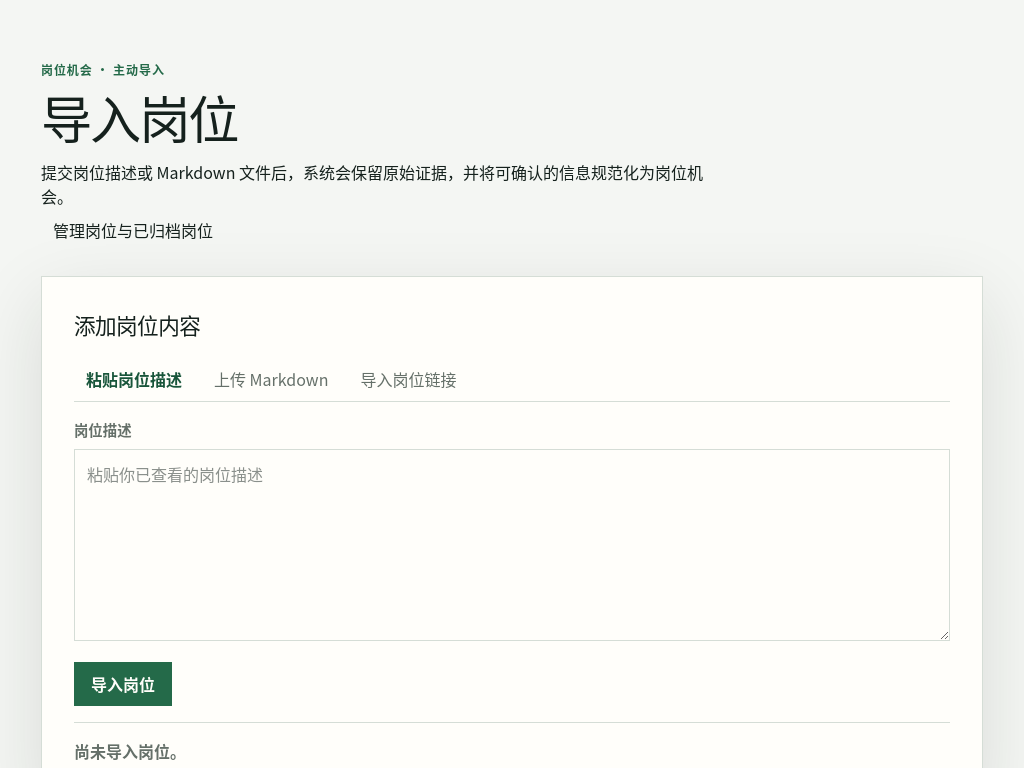
Test: 将复用通知告知用户，并以 literal pre 展示不可信 Markdown
This screenshot has width=1024, height=768.
Step 1. Type "岗位正文" into the text box labelled "岗位描述" → (512, 545), box [74, 449, 950, 641]
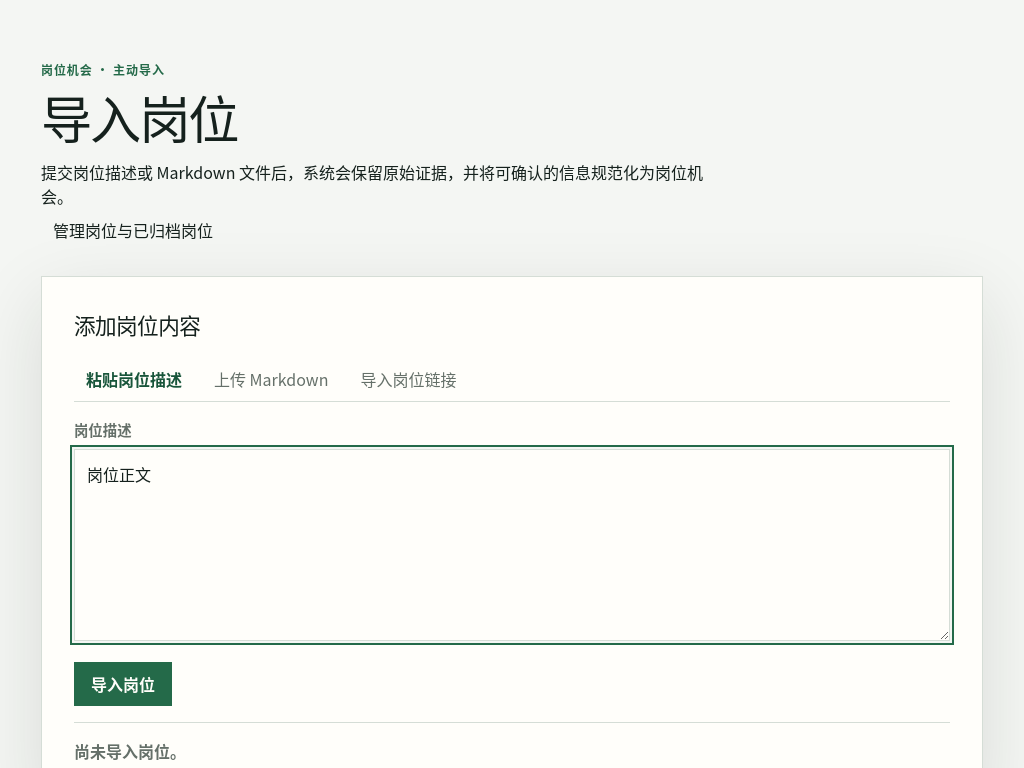
Step 2. Click the button "导入岗位" → (123, 684), box [74, 662, 172, 706]
(page scrolled)
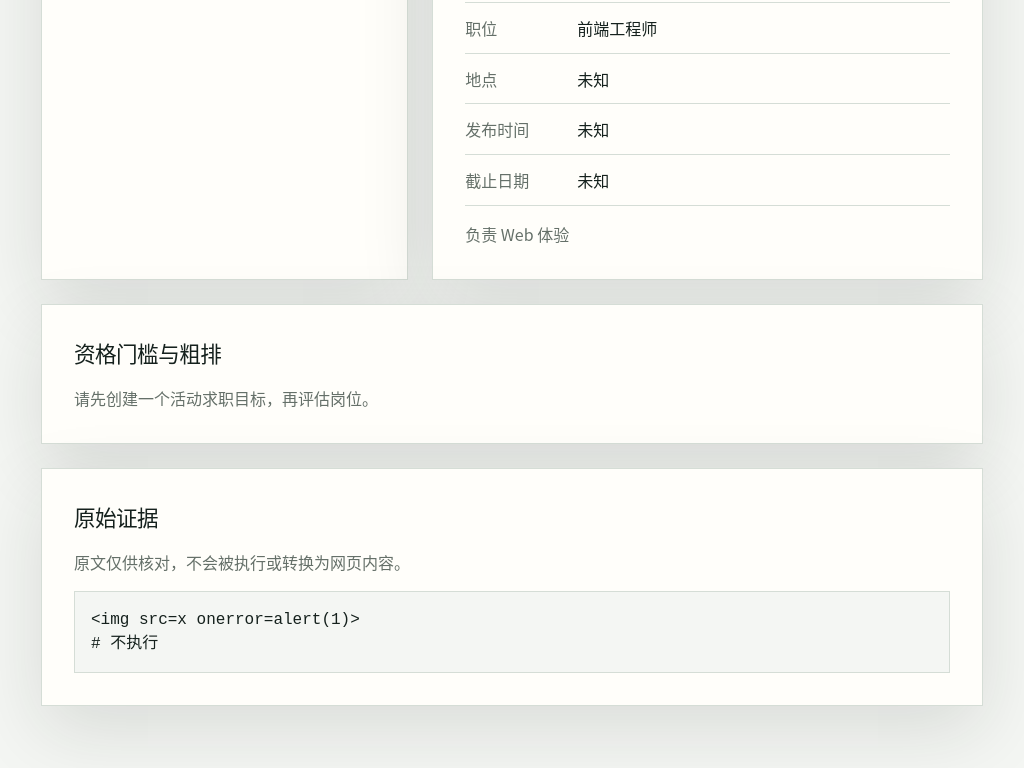
Result: the text "<img src=x onerror=alert(1)> # 不执行" is shown at [74, 591, 950, 673]
